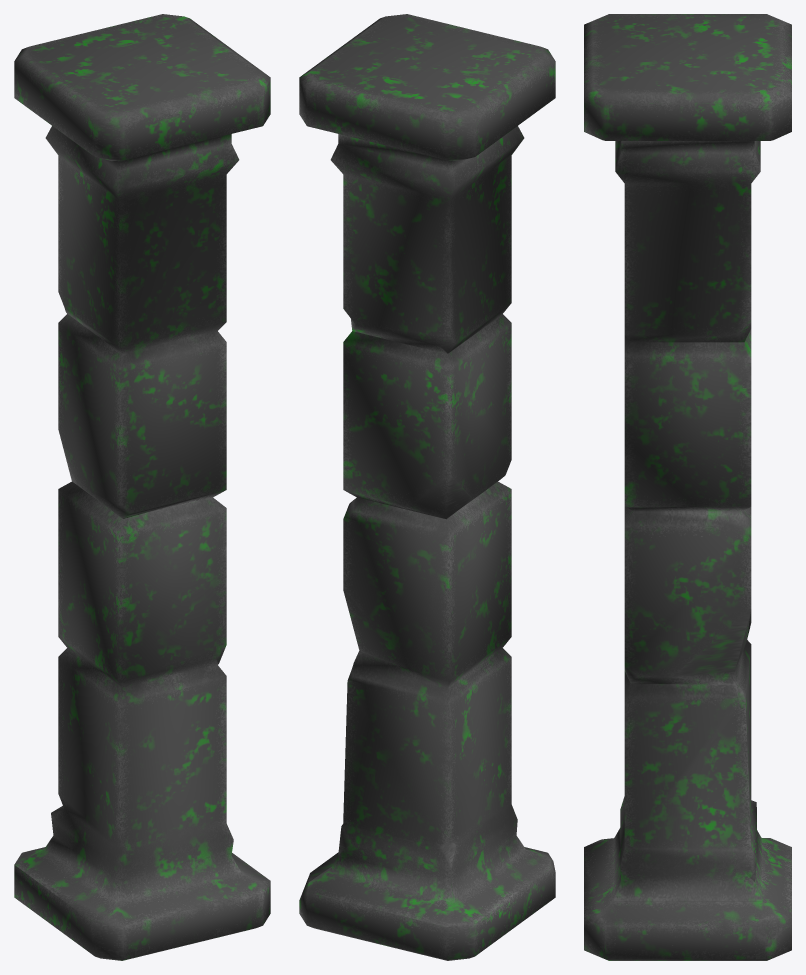
Rendered from pillar.glb.
3 views of the same model, side by side, from view 1: azimuth 30°, elevation 25°; view 2: azimuth 150°, elevation 25°; view 3: azimuth 270°, elevation 25° (orthographic). The views are drawn at different scales.
Parts seen in each view (by area): view 1: pillar; view 2: pillar; view 3: pillar.
Part boxes in pixels (x1=…): pillar: x1=14, y1=14, x2=270, y2=960; pillar: x1=299, y1=14, x2=555, y2=960; pillar: x1=584, y1=14, x2=791, y2=960.
Size of the model in its own units: 3.29 by 15.13 by 3.29.
1 material, 1 textured.
